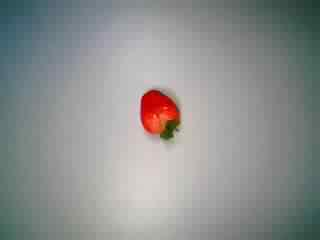strawberry: (129, 82, 195, 144)
